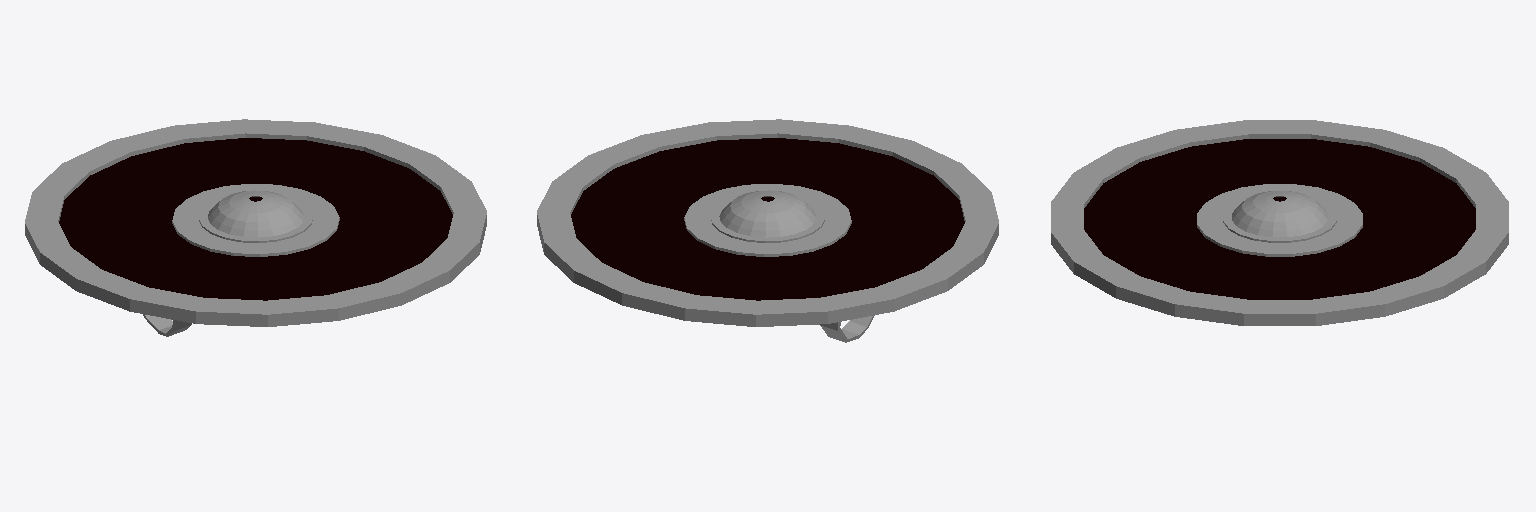
Rendered from shield.obj.
3 renders of one model, left to right at view 1: azimuth 30°, elevation 25°; view 2: azimuth 150°, elevation 25°; view 3: azimuth 270°, elevation 25°, orthographic.
Size of the model in its own units: 2.53 by 0.6994 by 2.53.